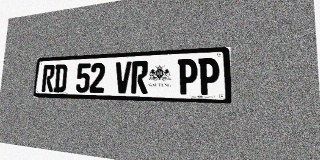2: (89, 62, 105, 93)
5: (76, 63, 91, 93)
D: (53, 64, 67, 92)
P: (198, 57, 219, 95), (177, 58, 197, 95)
R: (131, 61, 148, 94), (41, 65, 55, 92)
V: (114, 61, 131, 93)
